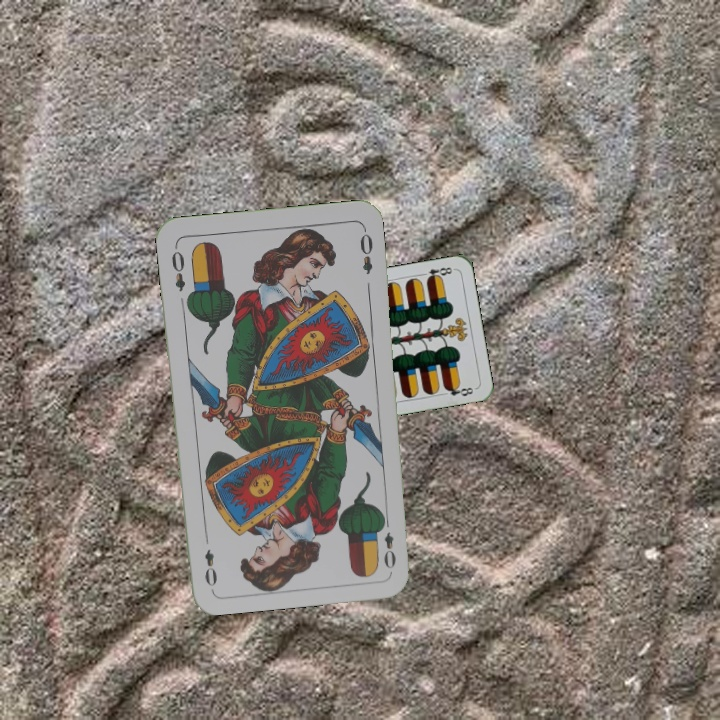E8: (416, 263, 457, 283)
EO: (376, 513, 398, 572), (167, 242, 188, 294)
